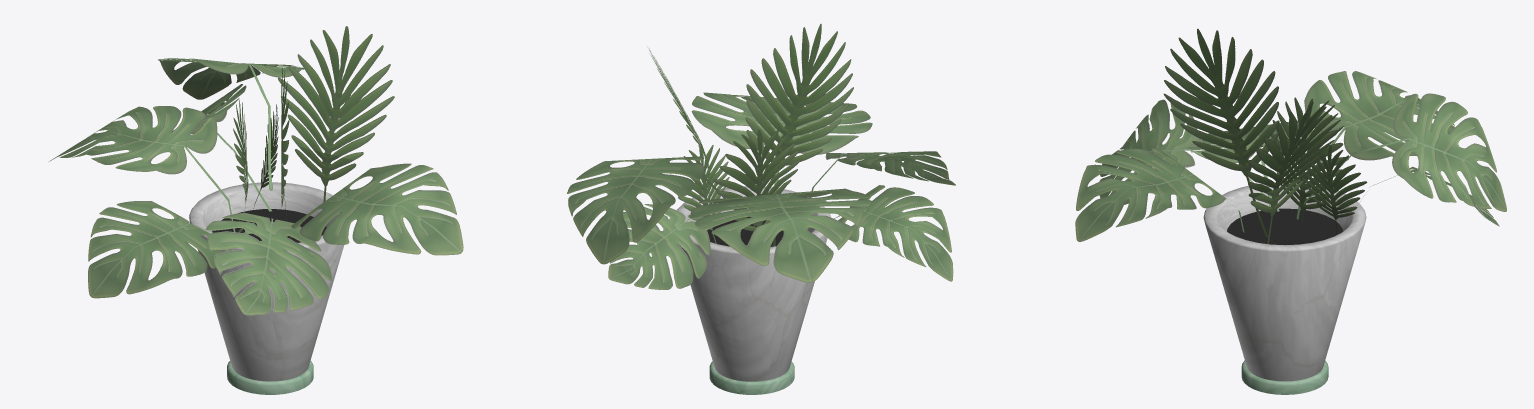
Rendered from PlantPot.glb.
3 views of the same model, side by side, from view 1: azimuth 30°, elevation 25°; view 2: azimuth 150°, elevation 25°; view 3: azimuth 270°, elevation 25° (orthographic). The views are drawn at different scales.
Visible parts, largest first — view 1: leaf01.001, Cylinder.023; view 2: leaf01.001, Cylinder.023; view 3: leaf01.001, Cylinder.023.
Part boxes in pixels (x1,y1,x2,y2): leaf01.001: [49, 26, 463, 315]; Cylinder.023: [189, 182, 343, 394]; leaf01.001: [567, 24, 955, 289]; Cylinder.023: [677, 186, 831, 394]; leaf01.001: [1075, 28, 1506, 244]; Cylinder.023: [1203, 182, 1366, 394].
Size of what is drawn, in the model's own units: 3.65 by 3.47 by 4.35.
Materials: 4 (3 with a texture image).
